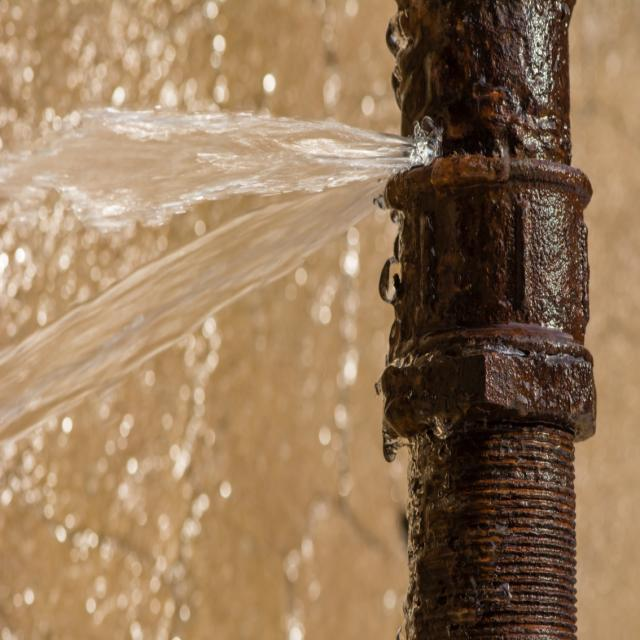leak: (0, 109, 440, 442)
